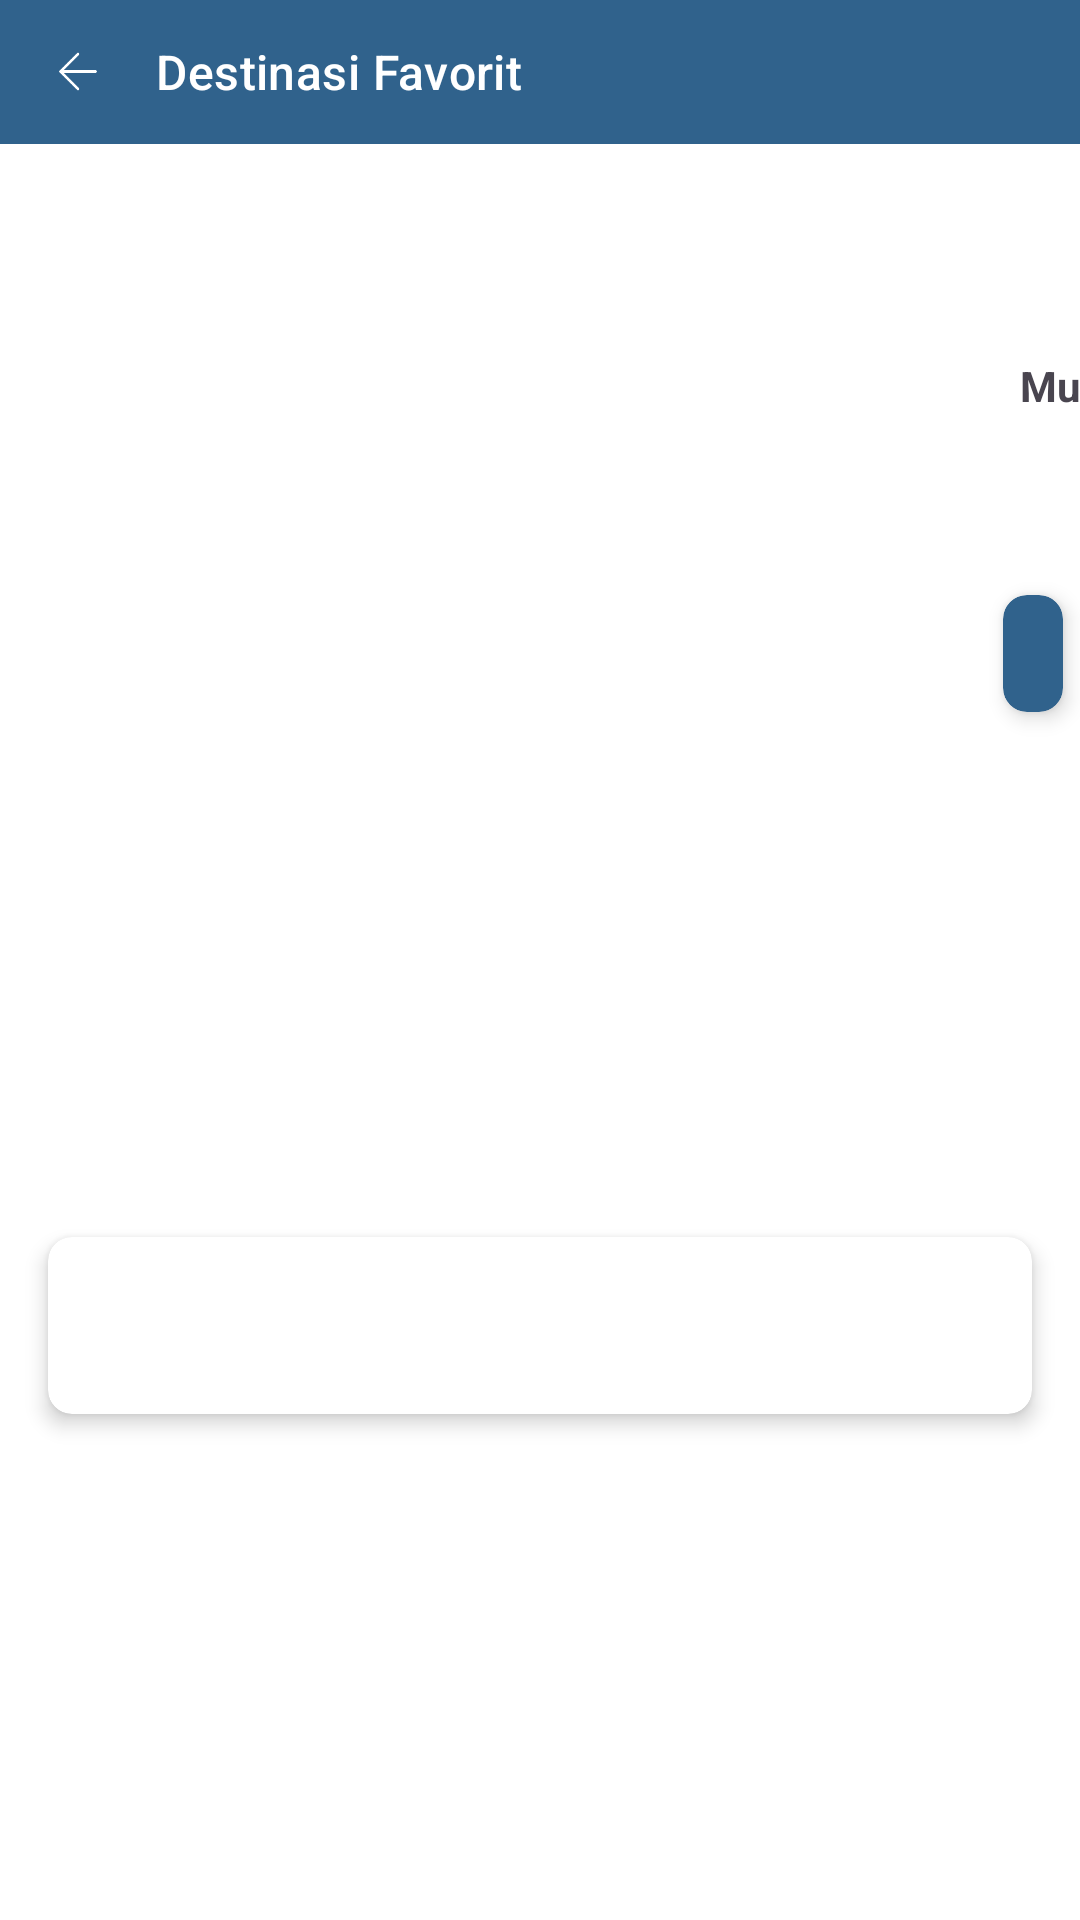

Icons on this 1080x1920 Android screen, each with its box as (x1, y1, x2, y2):
back: (59, 52, 97, 91)
